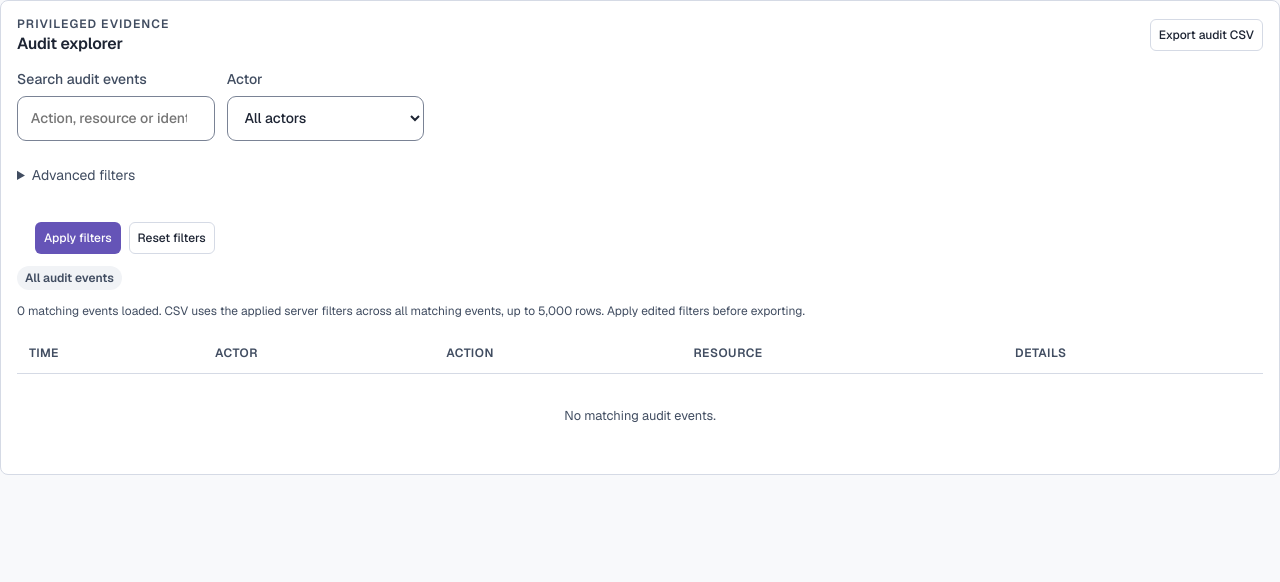
it: AuditPanel export concurrency › keeps the applied scope fixed while an export is pending and permits the preserved draft afterward
Type "original scope" into the search field labelled "Search audit events" at point(116, 118), box left=17, top=96, right=215, bottom=141
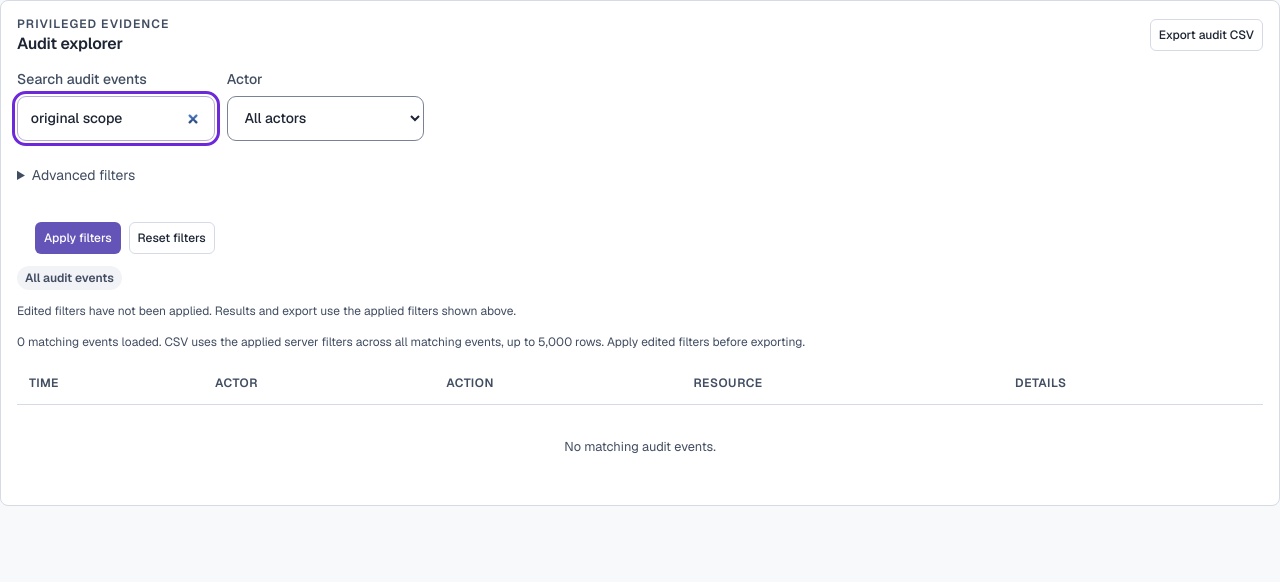
Click the button "Apply filters" at point(78, 238), box left=35, top=222, right=121, bottom=254
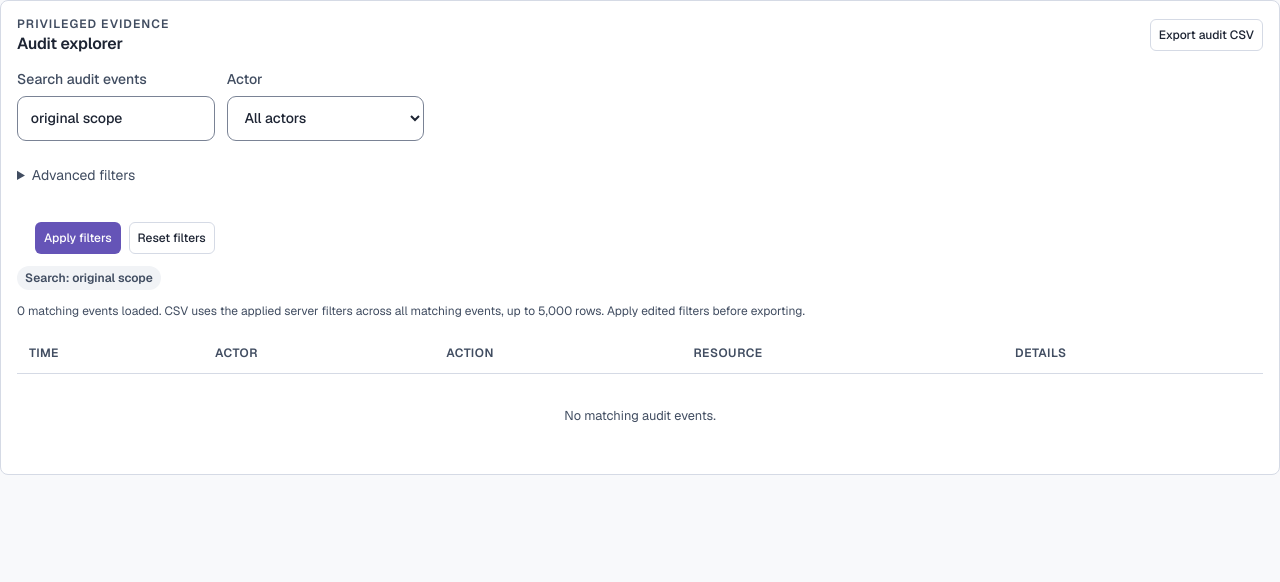
Click the button "Export audit CSV" at point(1206, 35), box left=1150, top=19, right=1263, bottom=51
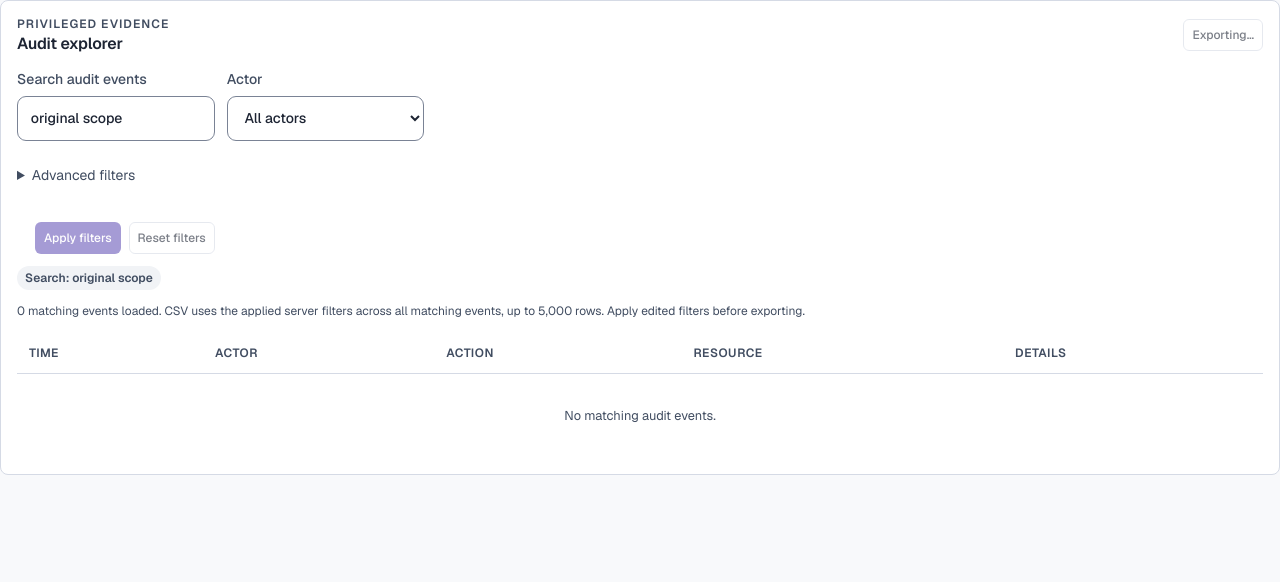
Now the button "Exporting…" is disabled, box left=1184, top=19, right=1263, bottom=51
Now the button "Apply filters" is disabled, box left=35, top=222, right=121, bottom=254
Now the button "Reset filters" is disabled, box left=129, top=222, right=215, bottom=254
Replace the text in the search field labelled "Search audit events" with "later scope" at point(116, 118), box left=17, top=96, right=215, bottom=141
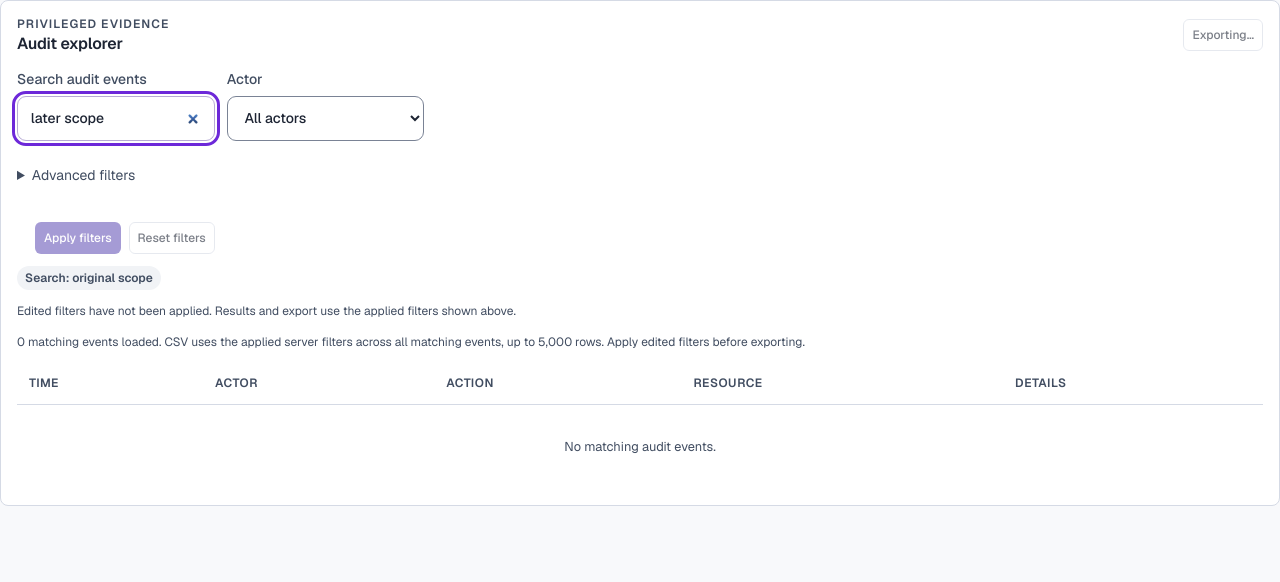
Submit the form labelled "Search audit events", box left=17, top=70, right=424, bottom=254
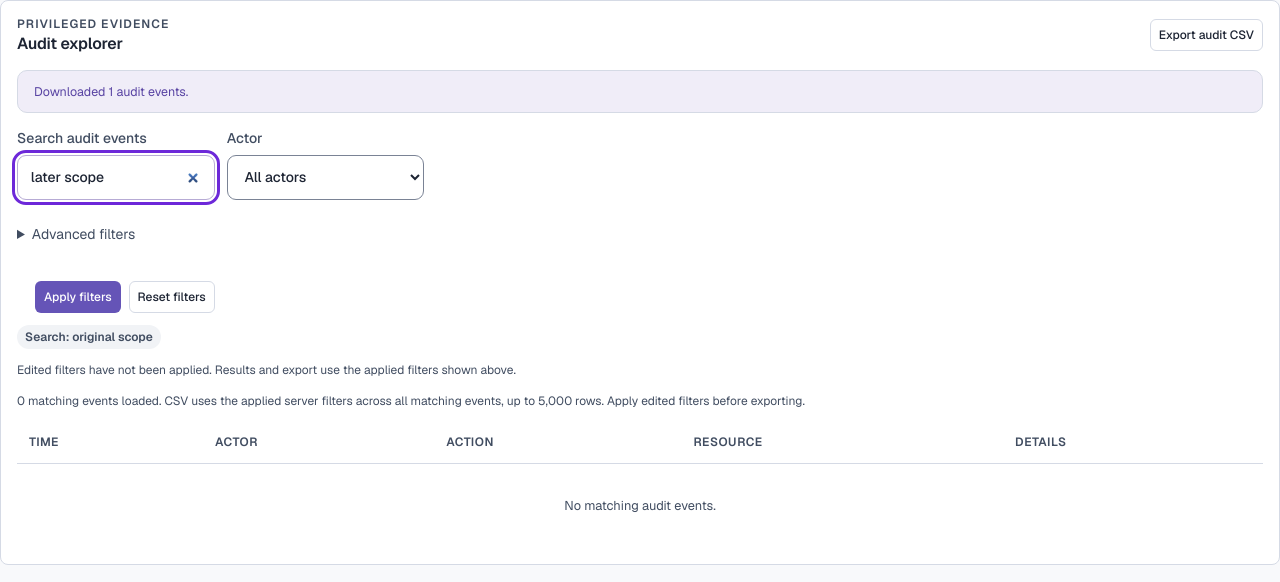
Now the message shows "Downloaded 1 audit events", box left=34, top=83, right=188, bottom=100
Click the button "Apply filters" at point(78, 297), box left=35, top=281, right=121, bottom=313
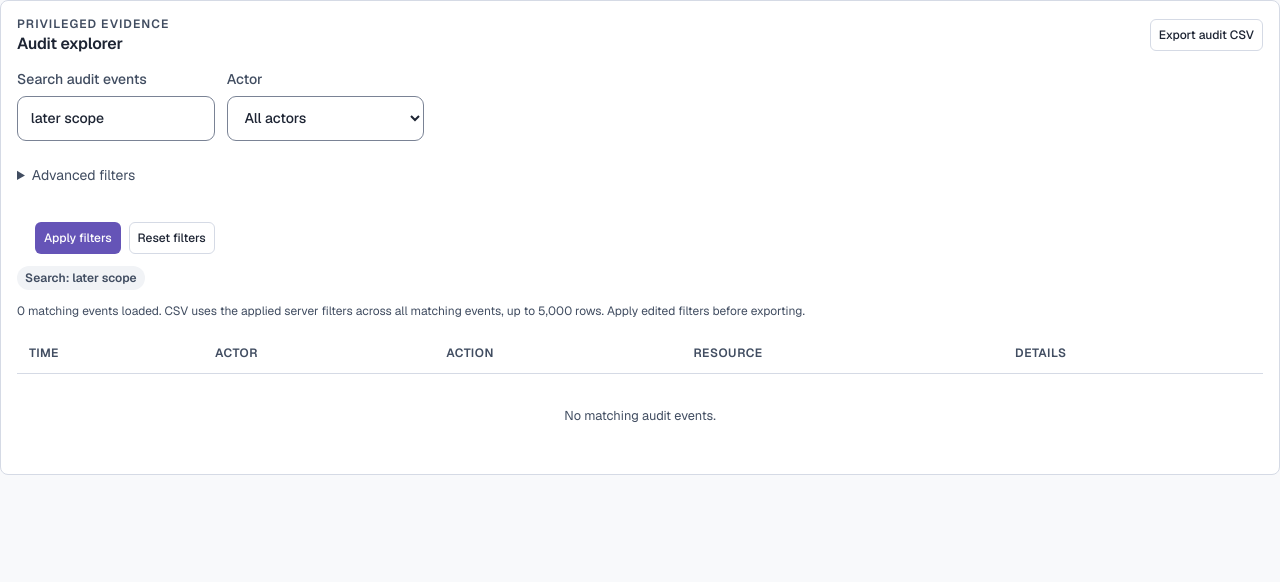
Now the message "Downloaded 1 audit events." is gone
